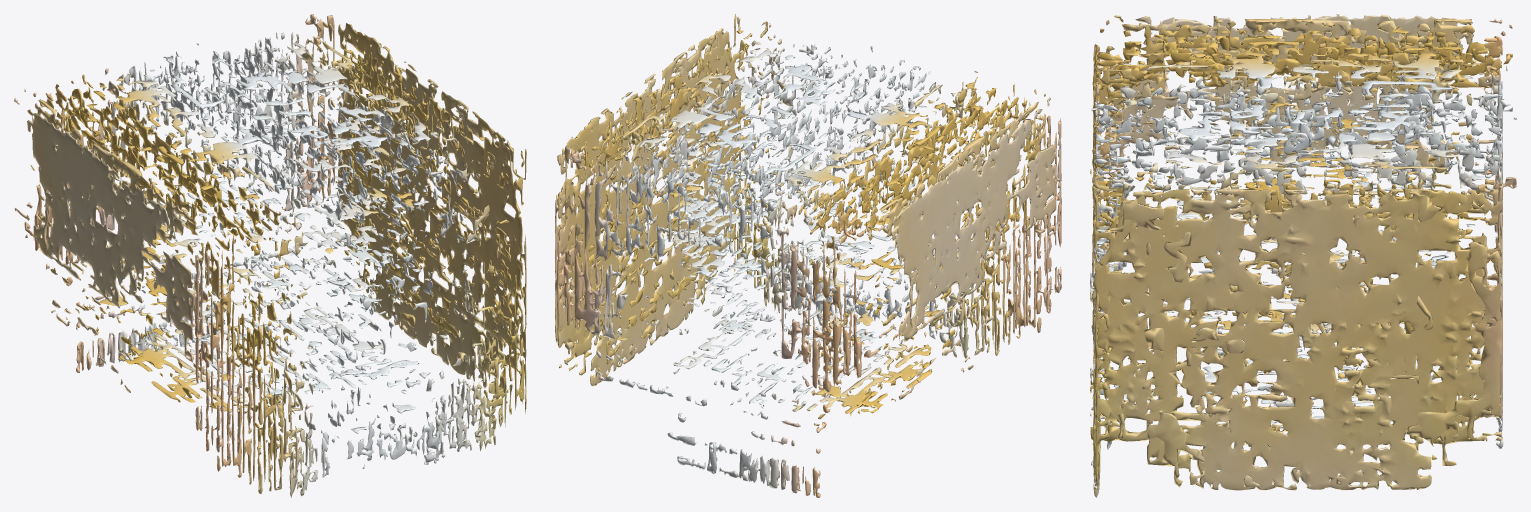
Rendered from workshop_forge.glb.
3 renders of one model, left to right at view 1: azimuth 30°, elevation 25°; view 2: azimuth 150°, elevation 25°; view 3: azimuth 270°, elevation 25°, orthographic. The views are drawn at different scales.
Parts seen in each view (by area): view 1: world; view 2: world; view 3: world.
Part boxes in pixels (x1,y1,x2,y2): world: [14, 14, 526, 497]; world: [555, 14, 1061, 497]; world: [1090, 14, 1516, 497].
Bounding box in the file's own units: 0.9876 × 0.844 × 0.9949.
Materials: 1 (1 with a texture image).
